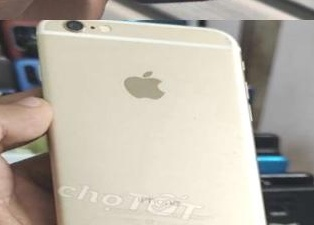scratch: (223, 145, 243, 159)
